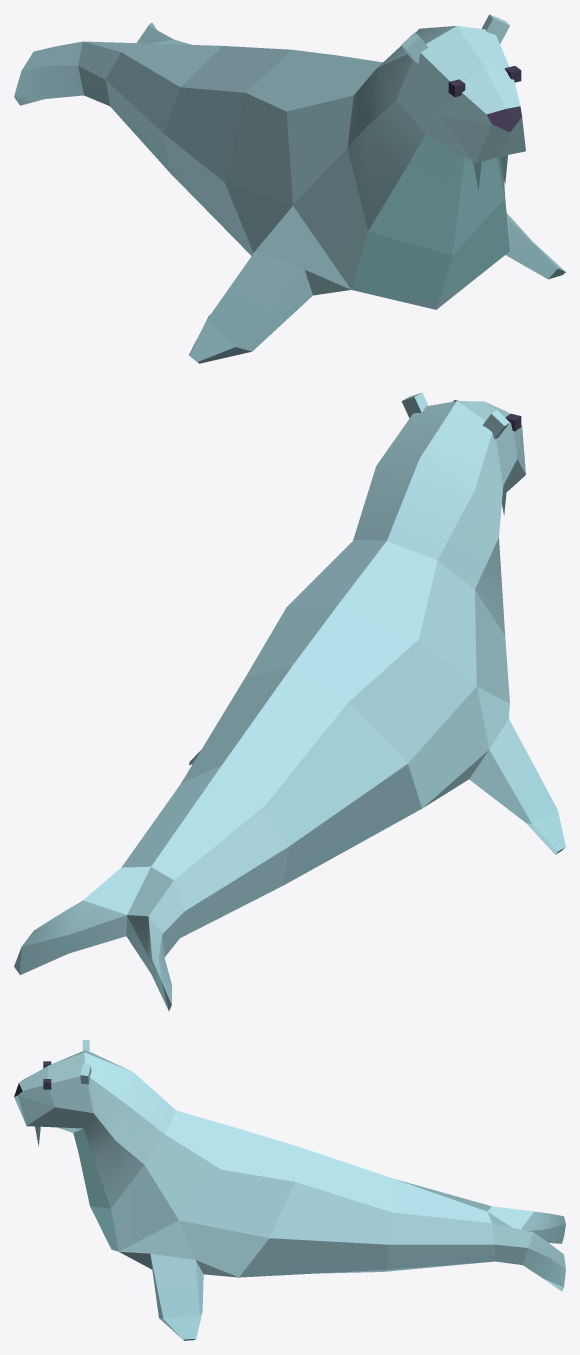
Rendered from SeaLion.fbx.
3 views of the same model, one above another, from view 1: azimuth 30°, elevation 25°; view 2: azimuth 150°, elevation 25°; view 3: azimuth 270°, elevation 25° (orthographic). The views are drawn at different scales.
Parts seen in each view (by area): view 1: Sealion; view 2: Sealion; view 3: Sealion.
Part boxes in pixels (x1,y1,x2,y2): Sealion: (14, 14, 565, 363); Sealion: (14, 392, 565, 1010); Sealion: (14, 1040, 565, 1340).
Size of the model in its own units: 1.05 by 0.9498 by 2.06.
